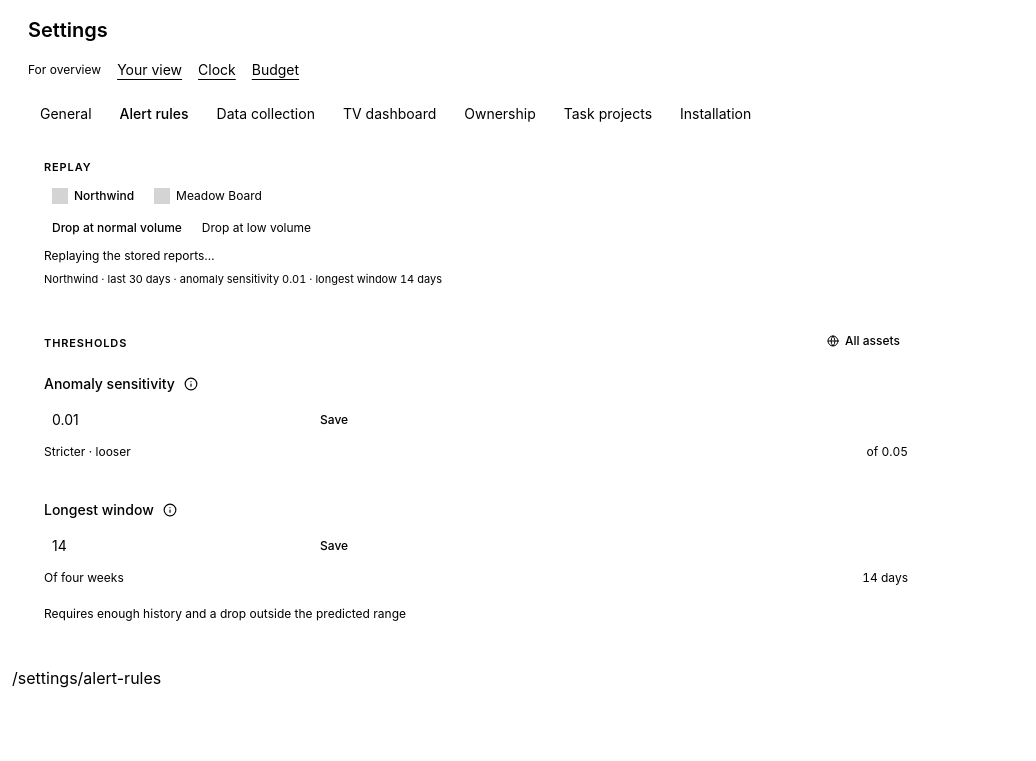
Scenario: /settings/alert-rules — the replay the fields are edited against › replays against the asset the picker names, and says which one it is
Expected: the element that starts with "Northwind" shows "Northwind · last 30 days", [44, 272, 442, 286]
What coordinates should you click on to do the following:
click the button "Meadow Board"
I would click on:
 (208, 196)
Its box is [146, 184, 270, 208].
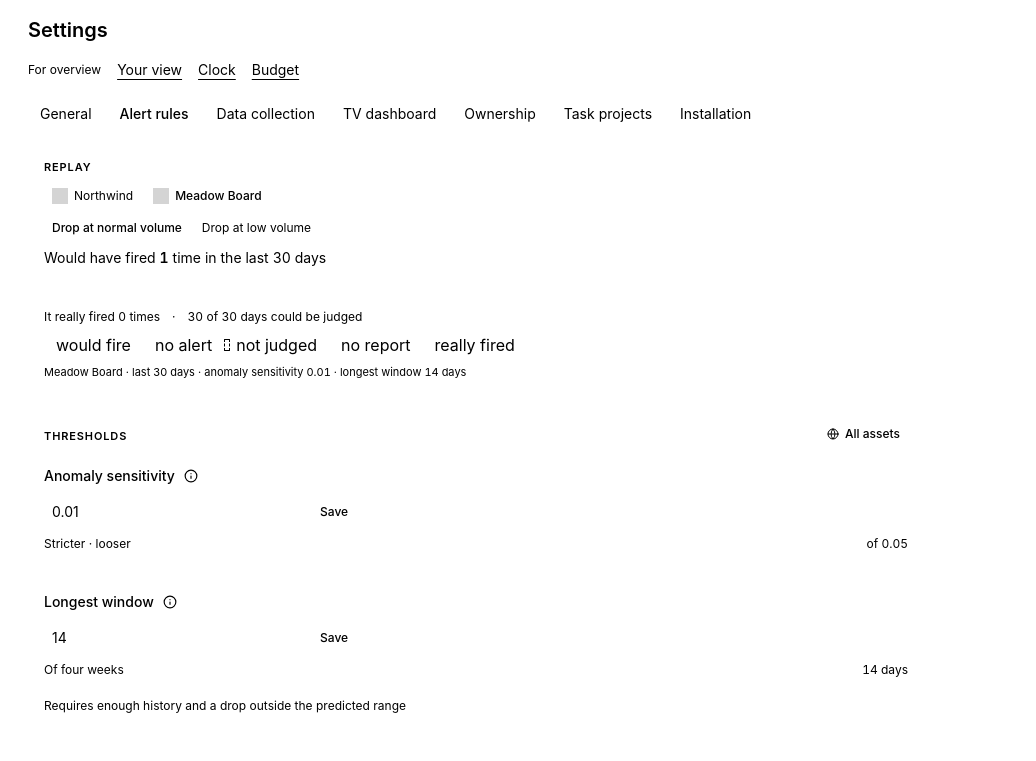
Expected: the element that starts with "Meadow Board" shows "Meadow Board · last 30 days", [44, 364, 466, 378]
